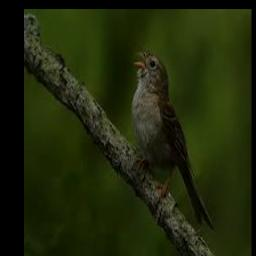Sparrow: (131, 48, 212, 229)
